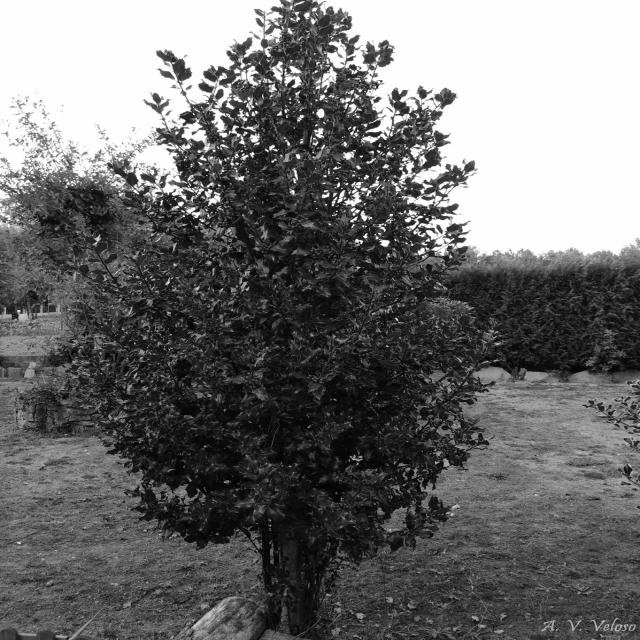acebo: (49, 0, 509, 637)
